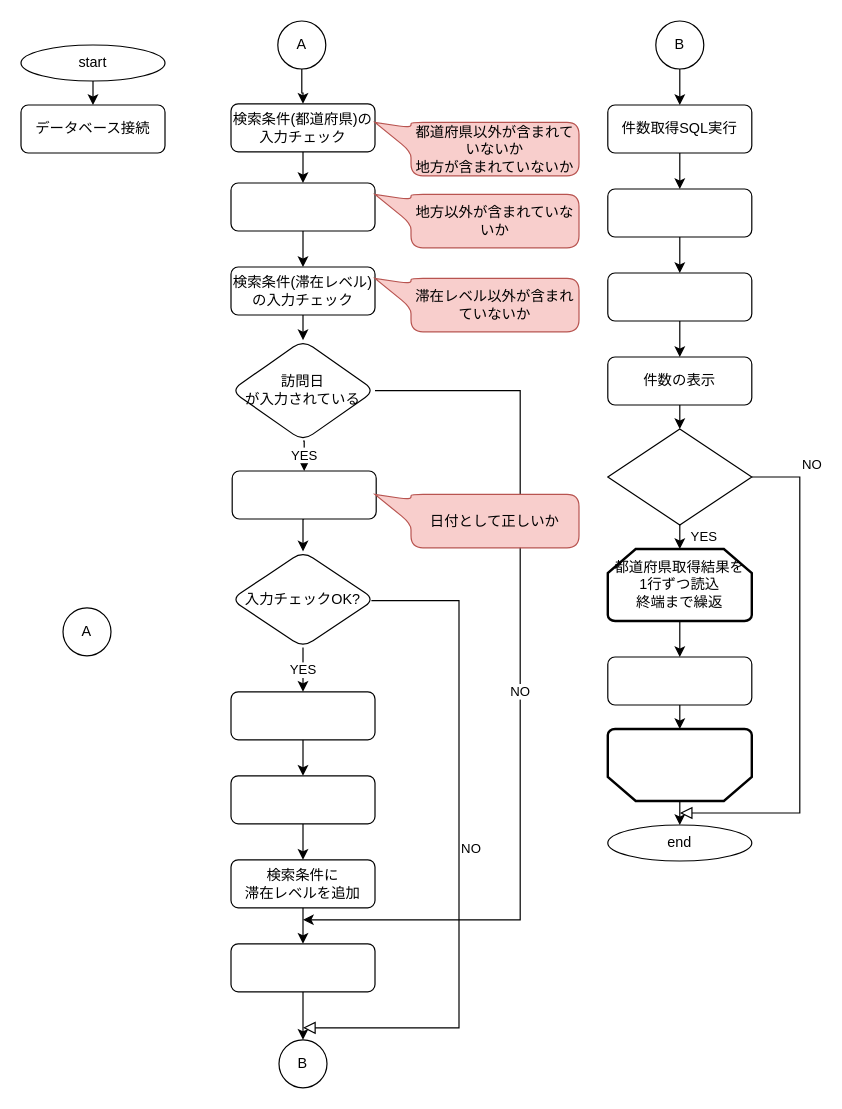
Image size: 842x1109. Some labels were removed from this diagram. Here are the shapes that lost their labels. From the top down, the box of each, then its label:
(230, 182, 375, 231): 検索条件(地方)の 入力チェック
(607, 188, 752, 237): 記録情報 取得SQL実行
(607, 272, 752, 321): メッセージ表示
(231, 470, 376, 519): 検索条件(訪問日) の入力チェック
(607, 428, 752, 525): 件数が1件以上
(607, 656, 752, 705): 都道府県情報 の表示
(230, 691, 375, 740): 検索条件に 都道府県を追加
(230, 775, 375, 824): 検索条件に 地方を追加
(230, 943, 375, 992): 検索条件に 訪問日を追加
